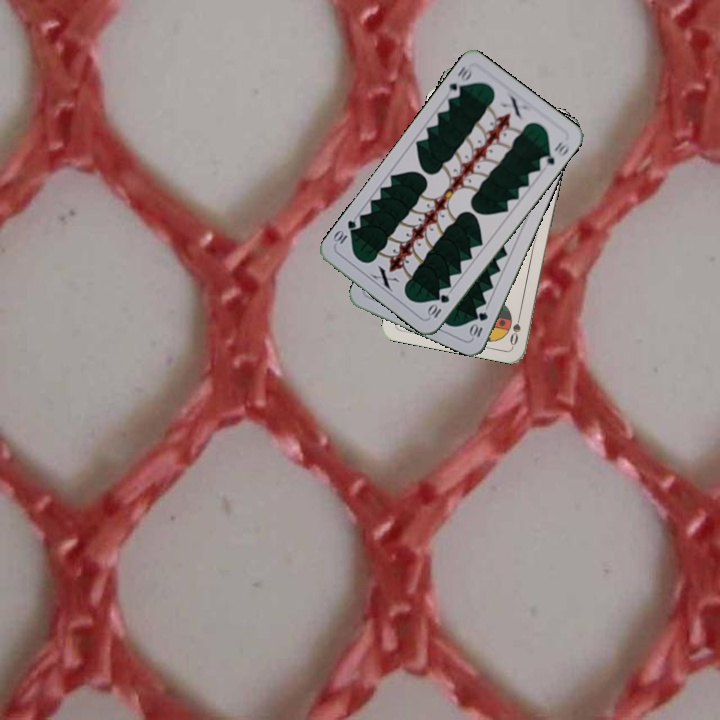G10: (443, 62, 476, 101), (424, 290, 452, 320), (466, 307, 491, 340)
SO: (506, 308, 524, 348)
